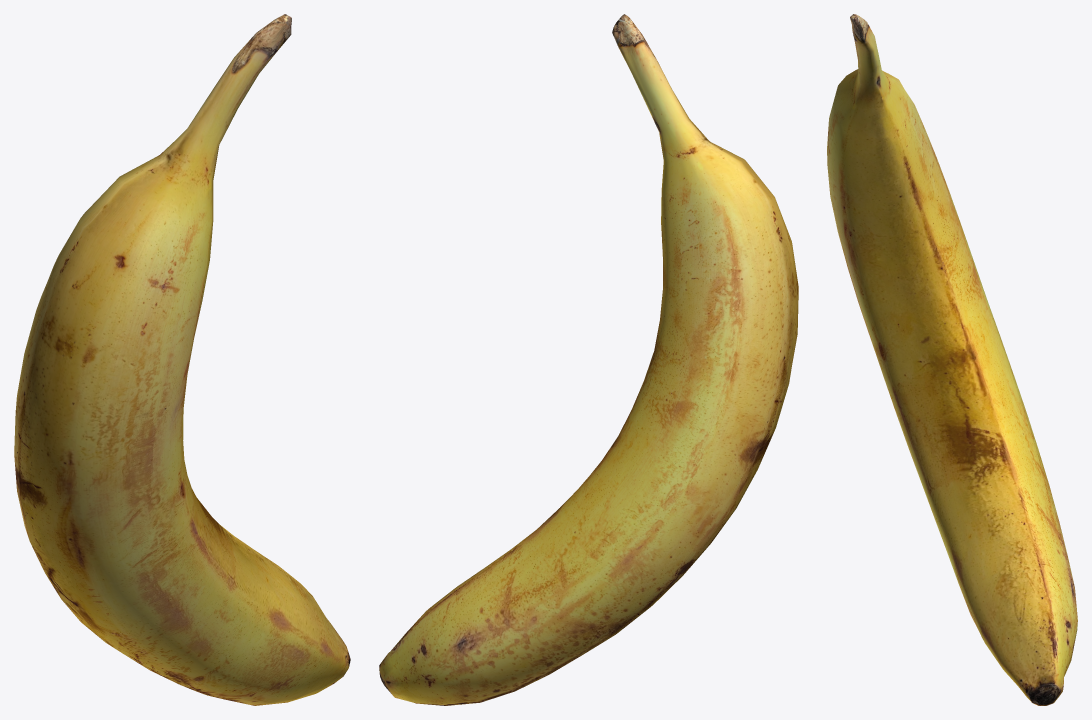
File: BANANA.obj
The picture shows the model from 3 angles, left to right: view 1: azimuth 30°, elevation 25°; view 2: azimuth 150°, elevation 25°; view 3: azimuth 270°, elevation 25°; orthographic projection. The views are drawn at different scales.
Parts seen in each view (by area): view 1: BananaFIXED; view 2: BananaFIXED; view 3: BananaFIXED.
Part boxes in pixels (x1,y1,x2,y2): BananaFIXED: [14, 14, 350, 705]; BananaFIXED: [379, 14, 798, 705]; BananaFIXED: [827, 14, 1077, 705].
Bounding box in the file's own units: 0.5056 × 0.9361 × 0.3369.
